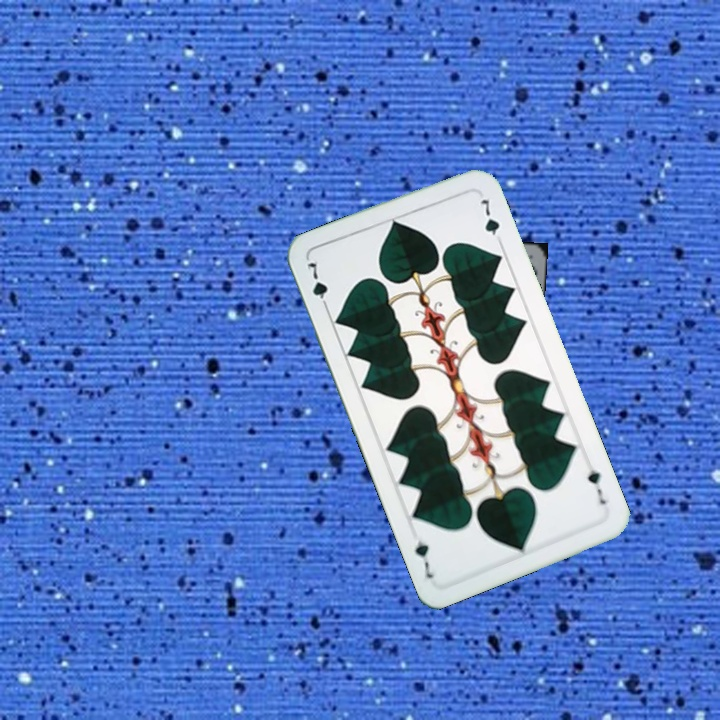G7: (303, 256, 332, 314), (583, 465, 609, 508)
